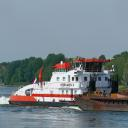tugboat: (9, 55, 122, 111)
